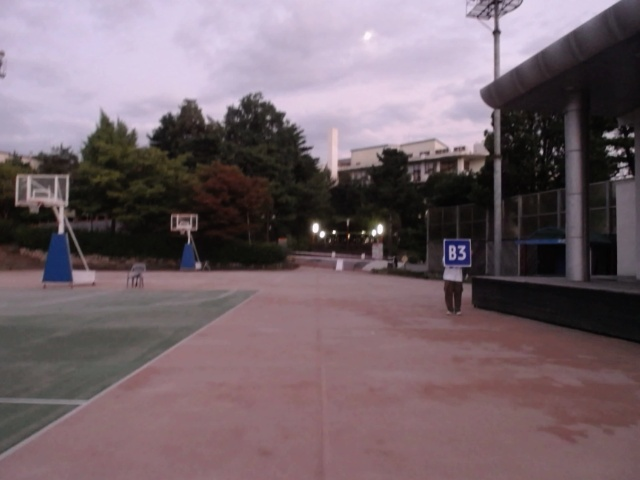delivery_b3: (443, 237, 472, 268)
